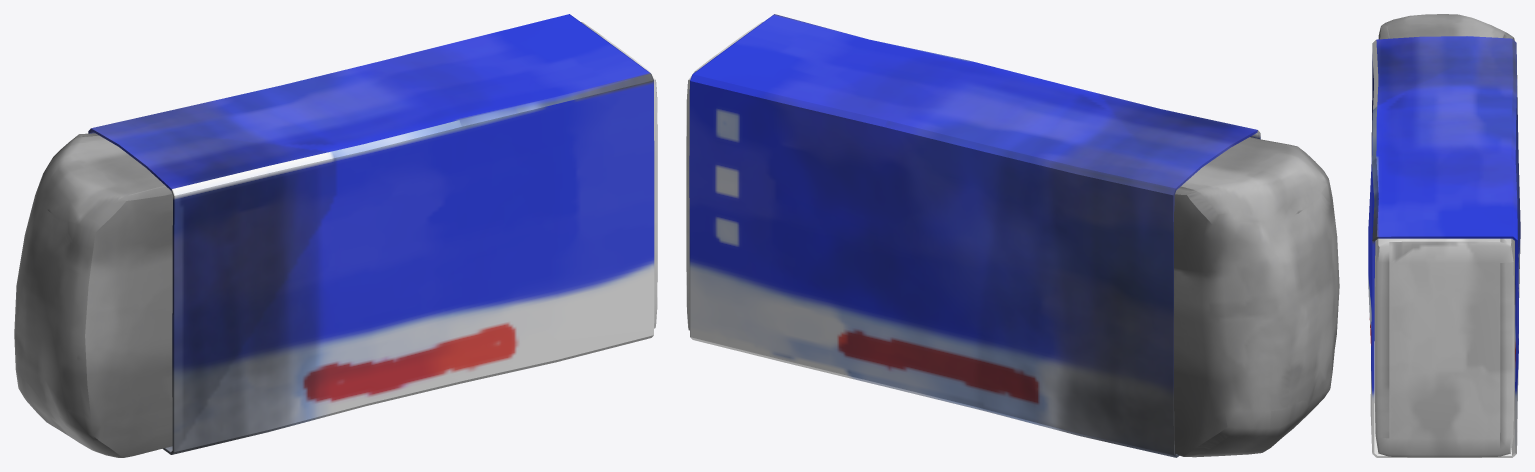
File: eraser2.fbx
3 renders of one model, left to right at view 1: azimuth 30°, elevation 25°; view 2: azimuth 150°, elevation 25°; view 3: azimuth 270°, elevation 25°, orthographic. The views are drawn at different scales.
Visible parts, largest first — view 1: wrapper2, eraser2; view 2: wrapper2, eraser2; view 3: eraser2, wrapper2.
Part boxes in pixels (x1,y1,x2,y2): wrapper2: (88, 14, 654, 454); eraser2: (14, 22, 657, 457); wrapper2: (689, 14, 1260, 457); eraser2: (686, 22, 1339, 457); eraser2: (1374, 14, 1517, 457); wrapper2: (1368, 36, 1520, 457).
Size of the model in its own units: 0.5041 by 0.2221 by 0.1353.
Materials: 2 (2 with a texture image).
